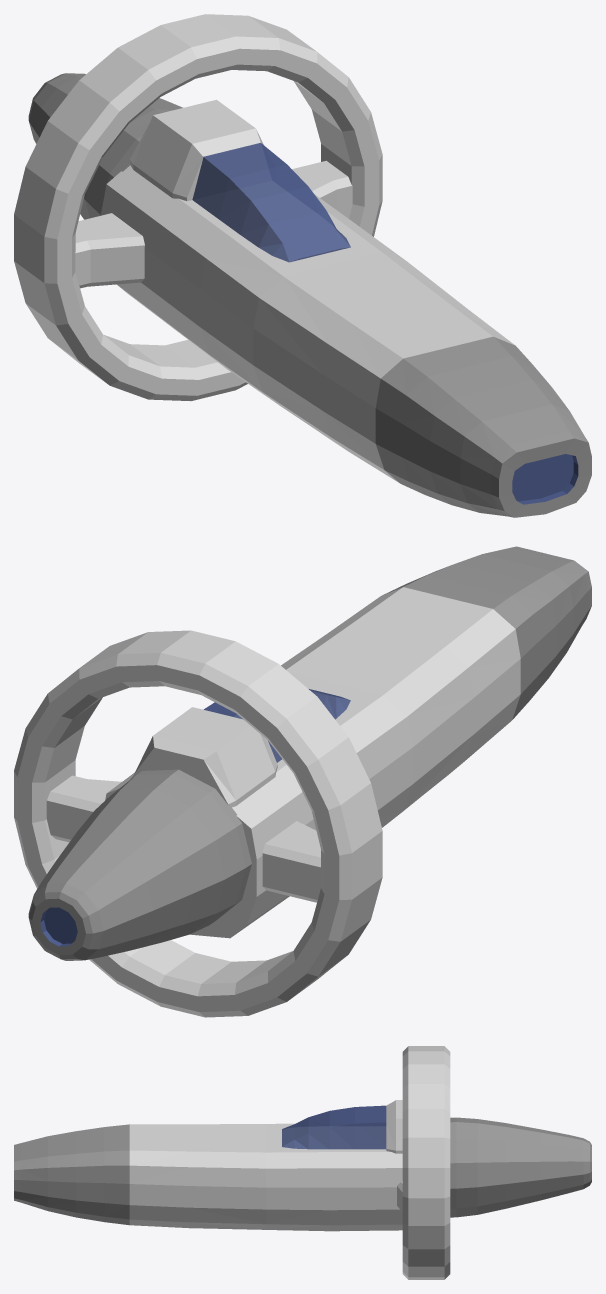
The model's file is hull_cube.obj.
3 views of the same model, one above another, from view 1: azimuth 30°, elevation 25°; view 2: azimuth 150°, elevation 25°; view 3: azimuth 270°, elevation 25° (orthographic). The views are drawn at different scales.
Parts seen in each view (by area): view 1: object 2, ring; view 2: object 2, ring; view 3: object 2, ring.
Boxes of the visible parts, <box> form: object 2: <box>28,73,591,517</box>; ring: <box>14,14,382,401</box>; object 2: <box>28,546,591,960</box>; ring: <box>14,630,382,1017</box>; object 2: <box>14,1100,591,1231</box>; ring: <box>402,1046,450,1279</box>.
Size of the model in its own units: 1.65 by 1.65 by 4.1.
